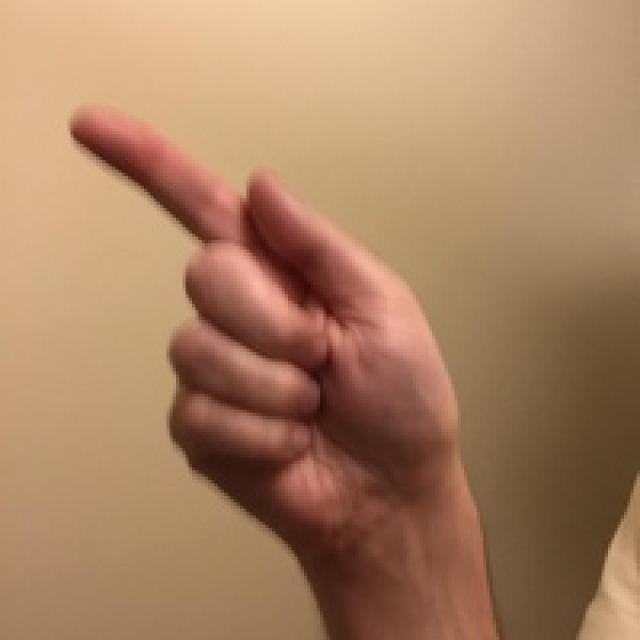G: (33, 42, 640, 588)
